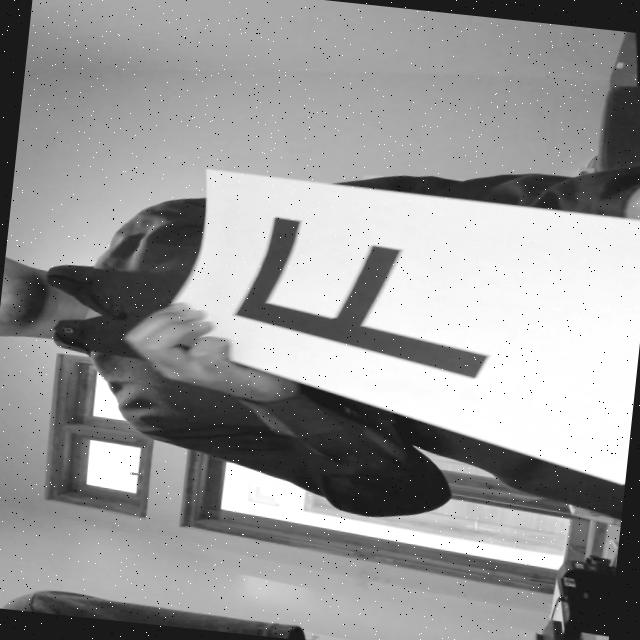f: (195, 204, 562, 388)
